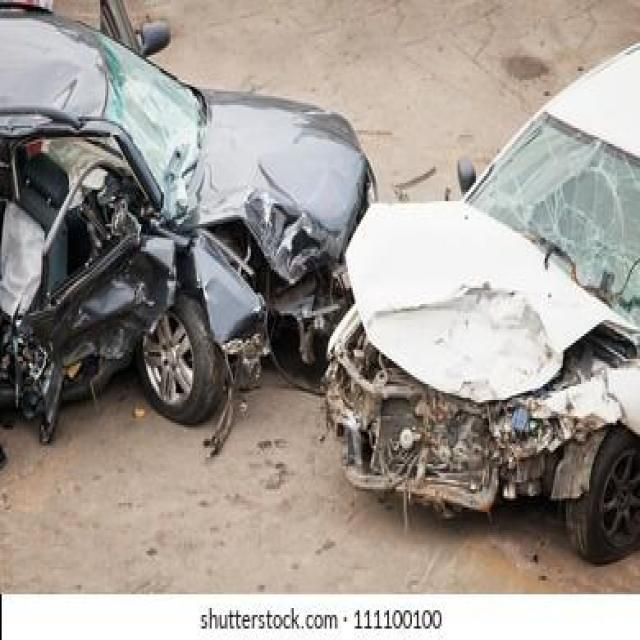accident: (0, 39, 635, 532)
